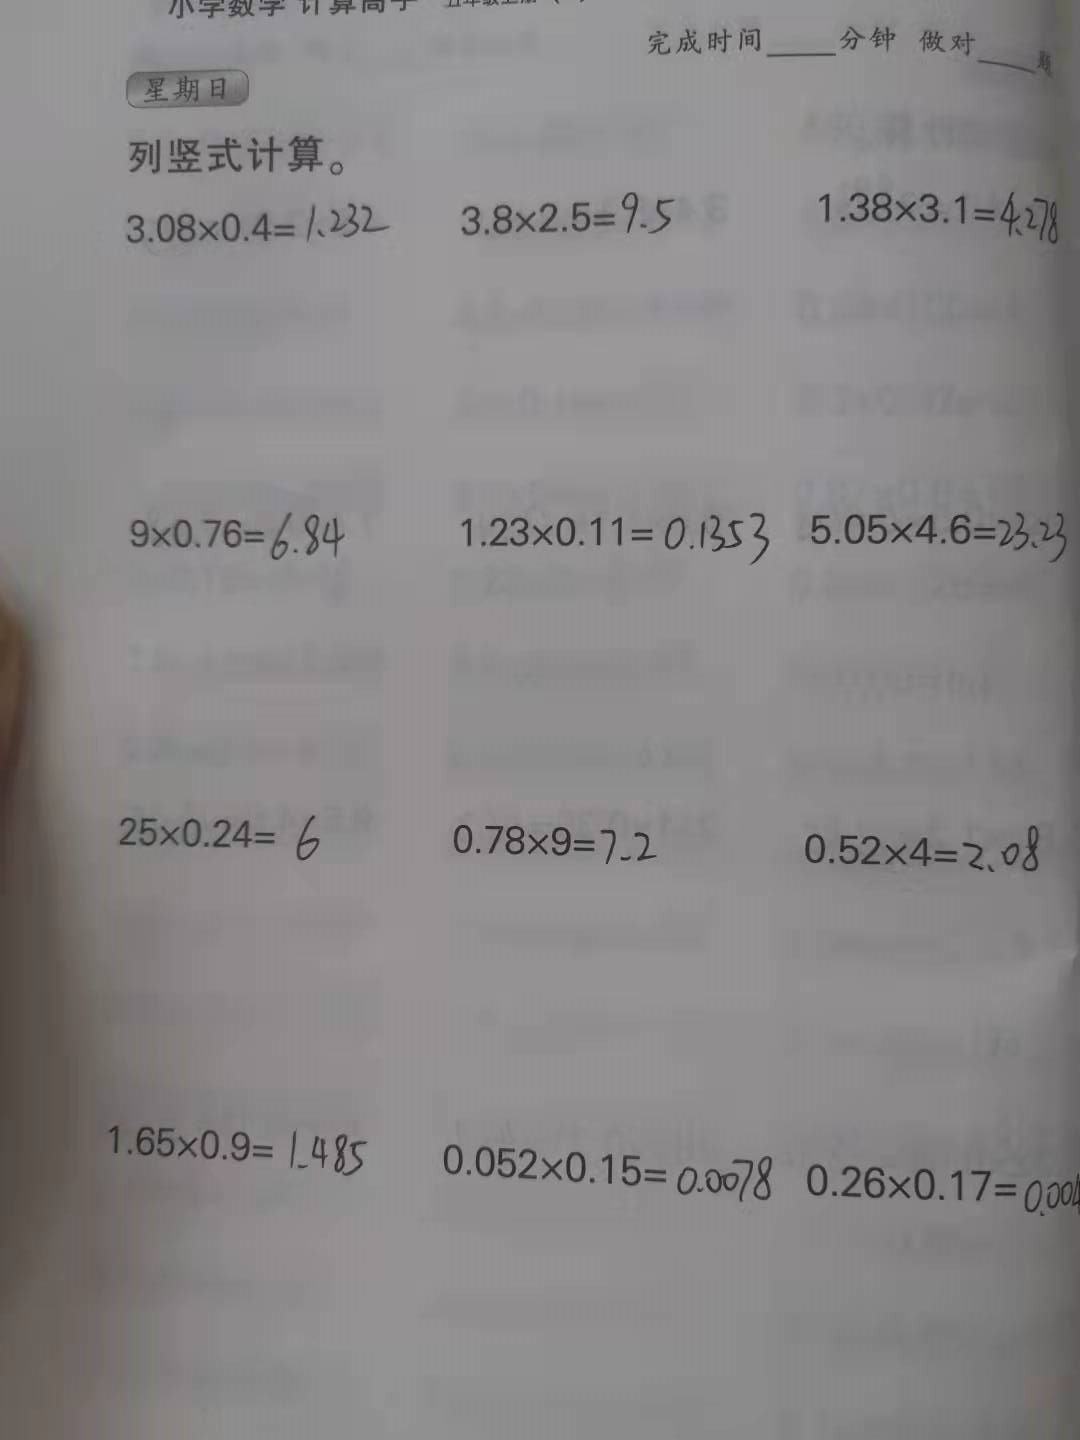equation: (427, 1134, 782, 1201), (798, 1144, 1079, 1227), (454, 501, 774, 569), (100, 1108, 368, 1185), (804, 808, 1055, 889), (810, 183, 1069, 255), (801, 499, 1073, 561), (115, 497, 356, 564), (452, 178, 684, 244), (104, 195, 402, 245), (106, 811, 341, 870), (446, 808, 665, 871)
